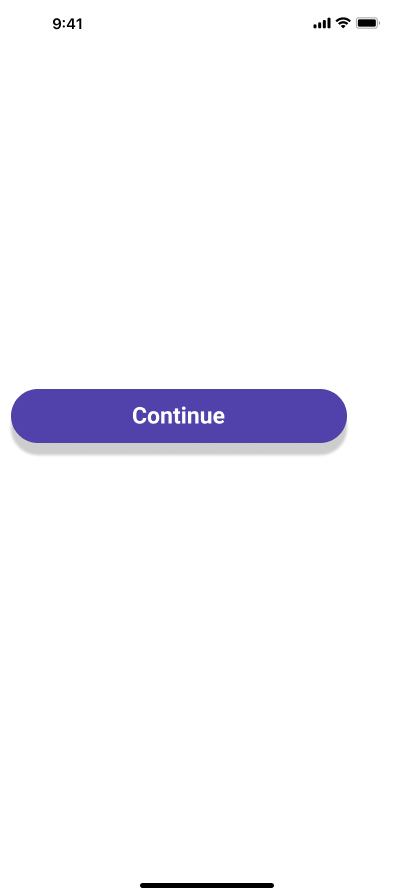Buttons: (8, 389, 350, 458)
Home Indicator: (0, 862, 414, 896)
Status Bar: (0, 0, 414, 44)
